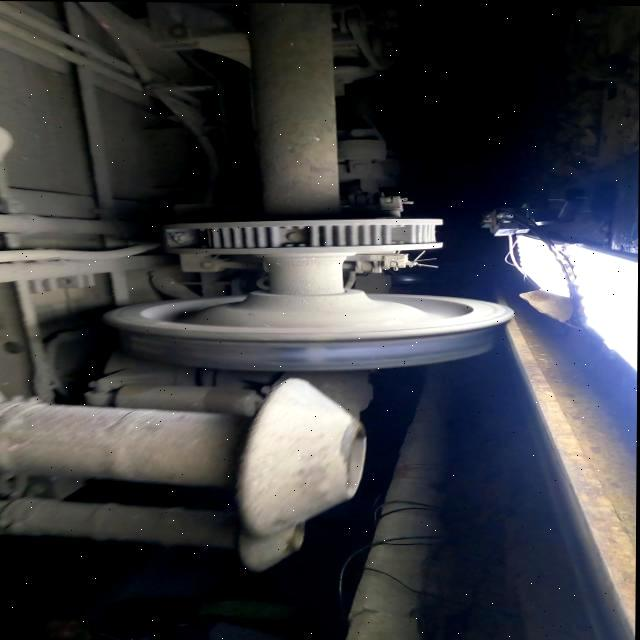Discoloration: (266, 344, 305, 365)
Shelling: (127, 335, 263, 364)
Wheel: (104, 289, 515, 370)
